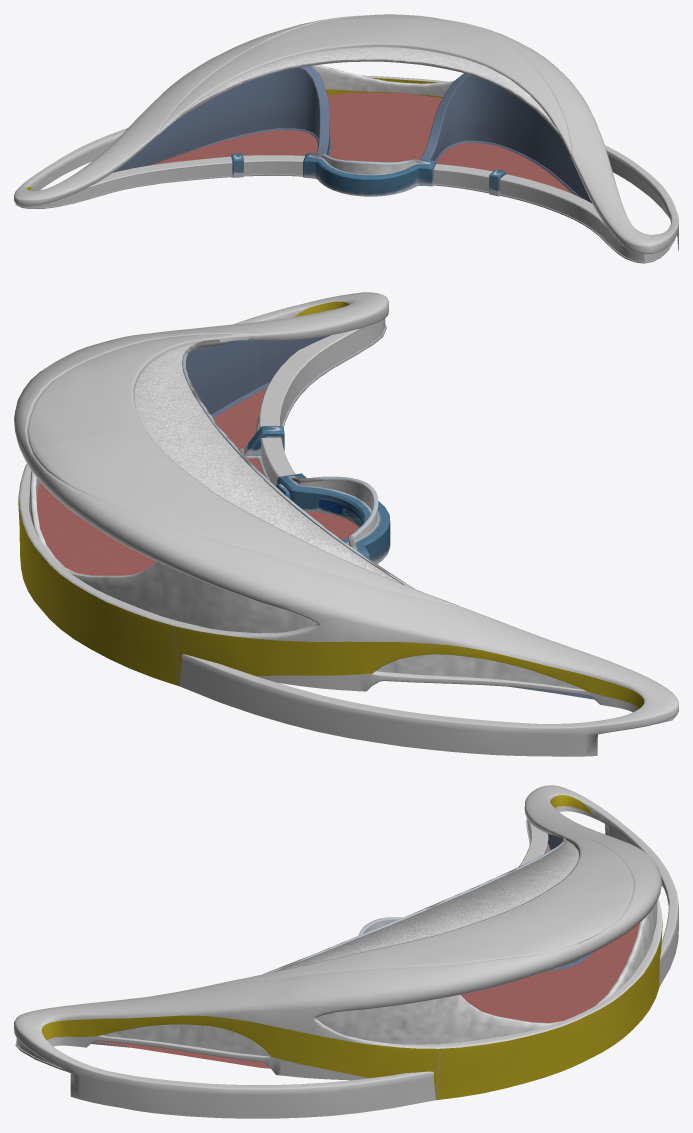
Rendered from pref_sm_beach_winter_techpagoda01_lv3.fbx.
3 views of the same model, one above another, from view 1: azimuth 30°, elevation 25°; view 2: azimuth 150°, elevation 25°; view 3: azimuth 270°, elevation 25° (orthographic). The views are drawn at different scales.
Parts seen in each view (by area): view 1: sm_beach_techpagoda01_d_lv3, sm_beach_techpagoda01_e_lv3, sm_beach_techpagoda01_b_lv3, sm_beach_techpagoda01_c_lv3, sm_beach_techpagoda01_a_lv3; view 2: sm_beach_techpagoda01_c_lv3, sm_beach_techpagoda01_d_lv3, sm_beach_techpagoda01_a_lv3, sm_beach_techpagoda01_e_lv3, sm_beach_techpagoda01_b_lv3; view 3: sm_beach_techpagoda01_b_lv3, sm_beach_techpagoda01_d_lv3, sm_beach_techpagoda01_a_lv3, sm_beach_techpagoda01_c_lv3, sm_beach_techpagoda01_e_lv3.
Part boxes in pixels (x1=…): sm_beach_techpagoda01_d_lv3: x1=151, y1=59, x2=676, y2=263; sm_beach_techpagoda01_e_lv3: x1=15, y1=59, x2=406, y2=208; sm_beach_techpagoda01_b_lv3: x1=404, y1=16, x2=678, y2=253; sm_beach_techpagoda01_c_lv3: x1=14, y1=14, x2=420, y2=205; sm_beach_techpagoda01_a_lv3: x1=187, y1=47, x2=553, y2=174; sm_beach_techpagoda01_c_lv3: x1=29, y1=431, x2=678, y2=756; sm_beach_techpagoda01_d_lv3: x1=18, y1=301, x2=390, y2=609; sm_beach_techpagoda01_a_lv3: x1=29, y1=341, x2=582, y2=689; sm_beach_techpagoda01_e_lv3: x1=42, y1=425, x2=677, y2=724; sm_beach_techpagoda01_b_lv3: x1=14, y1=292, x2=388, y2=545; sm_beach_techpagoda01_b_lv3: x1=14, y1=911, x2=580, y2=1118; sm_beach_techpagoda01_d_lv3: x1=15, y1=847, x2=639, y2=1100; sm_beach_techpagoda01_a_lv3: x1=102, y1=840, x2=657, y2=1056; sm_beach_techpagoda01_c_lv3: x1=507, y1=785, x2=678, y2=1020; sm_beach_techpagoda01_e_lv3: x1=474, y1=795, x2=662, y2=1058.
Bounding box in the file's own units: 48.73 × 9.83 × 45.2.
